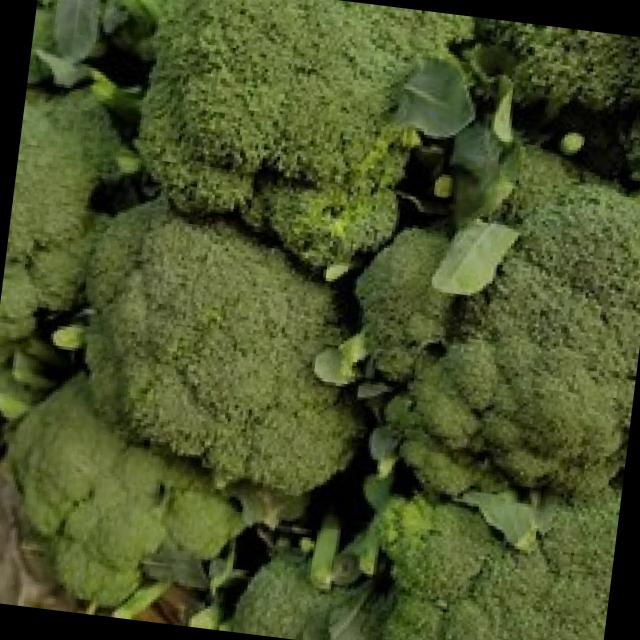Broccoli: (140, 0, 470, 268), (140, 0, 470, 268), (386, 148, 640, 494), (389, 147, 640, 493), (86, 199, 360, 495), (86, 201, 358, 494), (9, 375, 242, 606), (9, 375, 242, 606), (379, 490, 619, 640), (379, 492, 620, 640), (356, 228, 452, 381), (356, 228, 452, 381)
